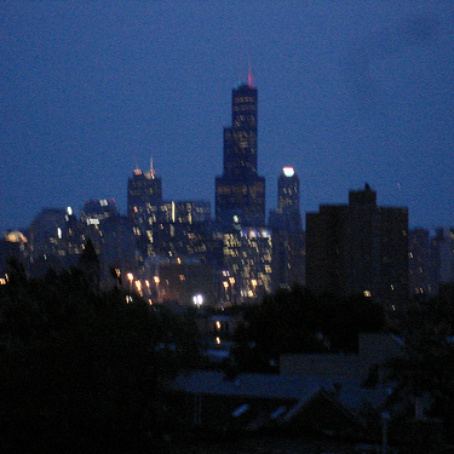building: (304, 192, 414, 295), (216, 79, 269, 231), (156, 195, 217, 301), (212, 220, 274, 314), (43, 197, 116, 276), (124, 168, 165, 289), (268, 169, 302, 247)
sky: (1, 1, 449, 222)
